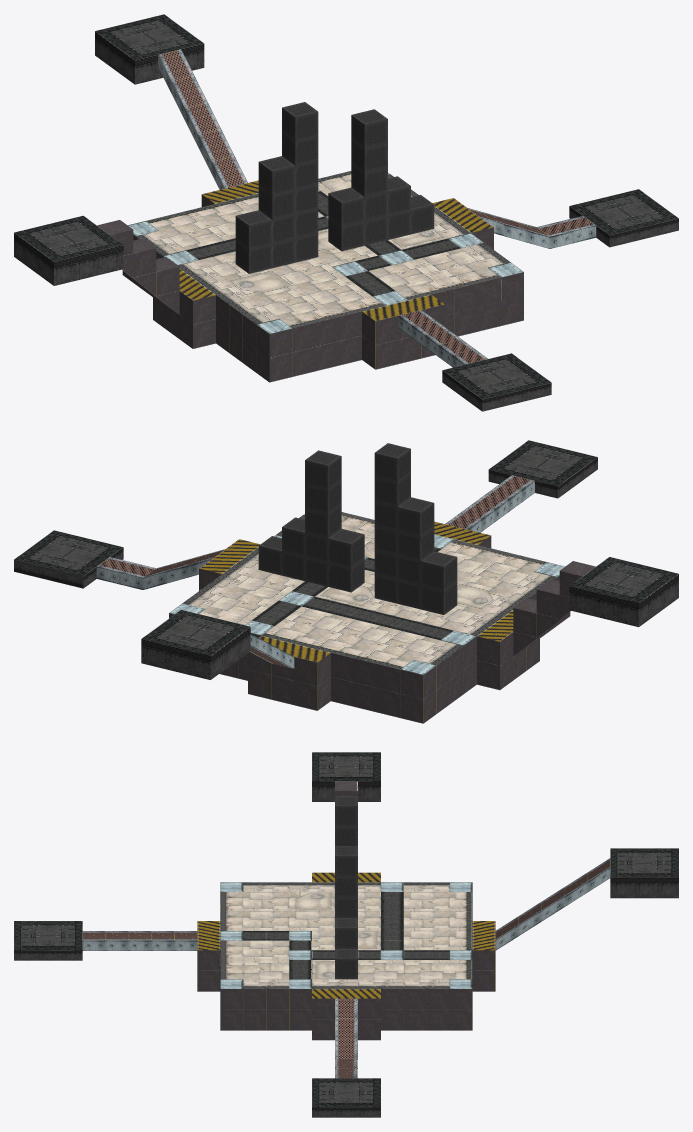
The model's file is test-zone2.glb.
The picture shows the model from 3 angles, top to bottom: view 1: azimuth 30°, elevation 25°; view 2: azimuth 150°, elevation 25°; view 3: azimuth 270°, elevation 25°; orthographic projection. The views are drawn at different scales.
Visible parts, largest first — view 1: Frame_0.016; view 2: Frame_0.016; view 3: Frame_0.016.
Part boxes in pixels (<box>): Frame_0.016: <box>14,14,678,411</box>; Frame_0.016: <box>14,440,678,723</box>; Frame_0.016: <box>14,752,678,1117</box>.
Bounding box in the file's own units: 135 × 40 × 145.
2 materials, 2 textured.
